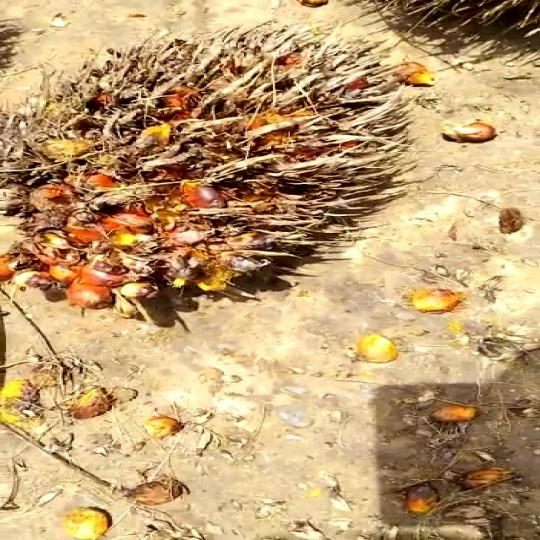terlalu masak: (0, 21, 426, 330)
